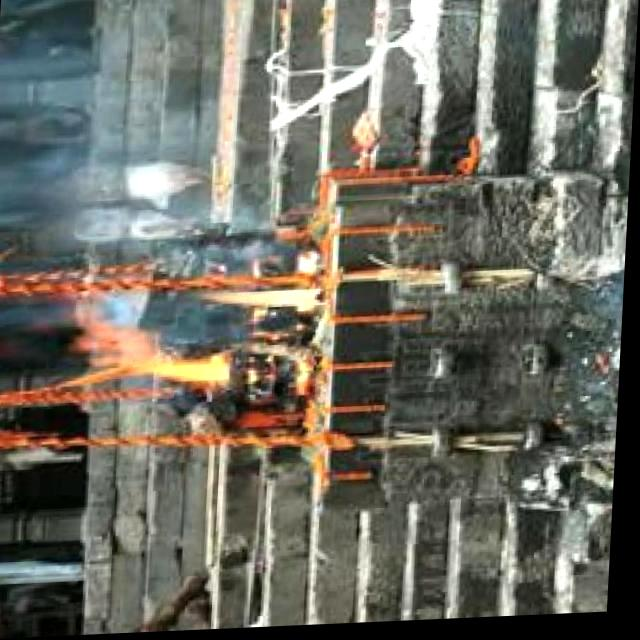fire: (72, 320, 240, 400), (198, 270, 324, 338)
